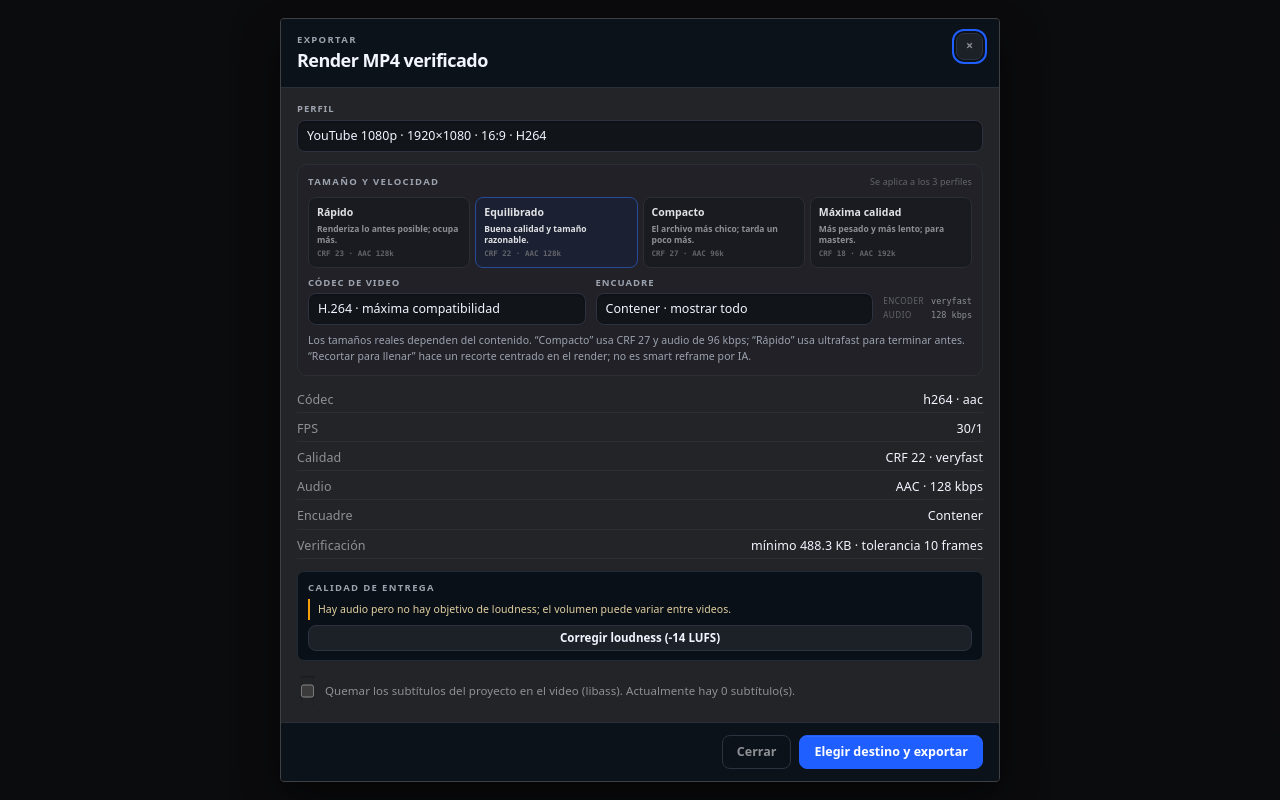
Test: ExportDialog · lote de variantes › apaga la GPU al volver a un preset rápido
Click the button "Máxima calidad" at (891, 232), box [810,196,972,268]
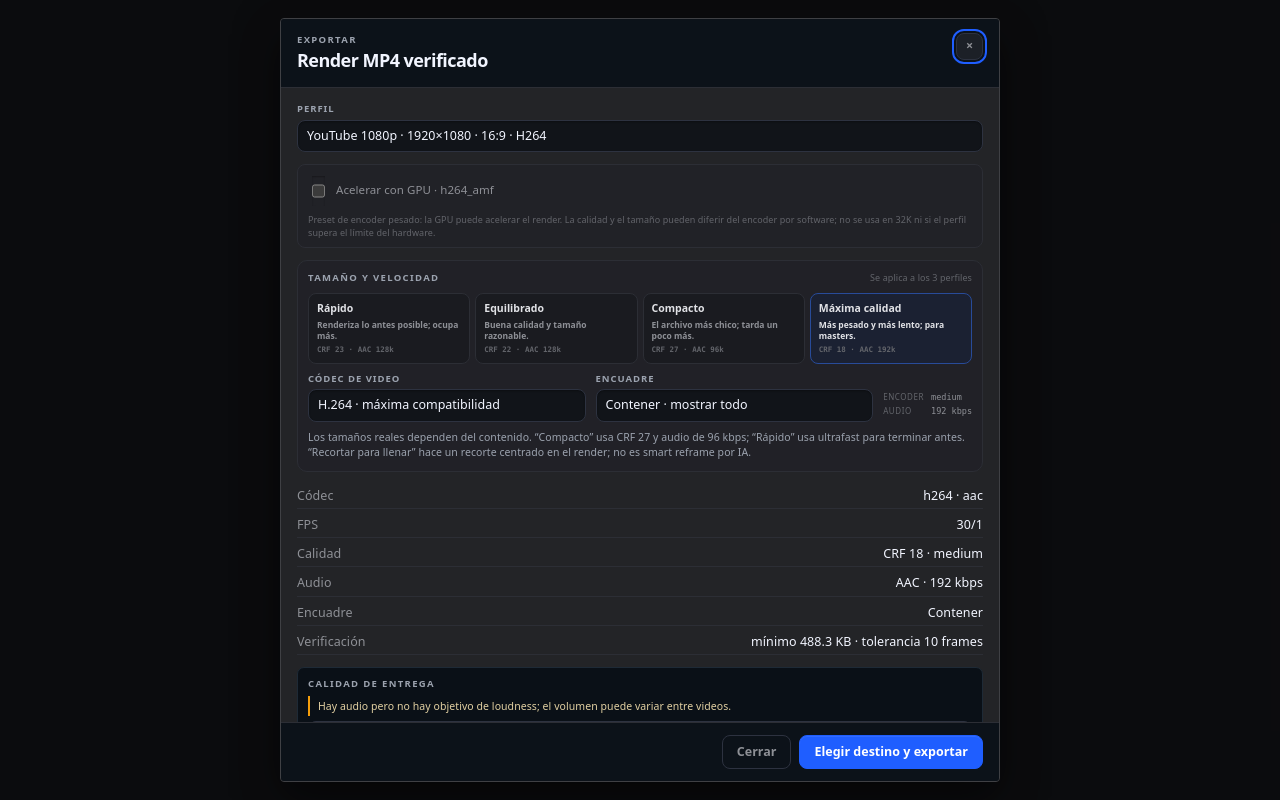
Click the checkbox labelled "Acelerar con GPU · h264_amf" at (318, 191), box [312,176,325,206]
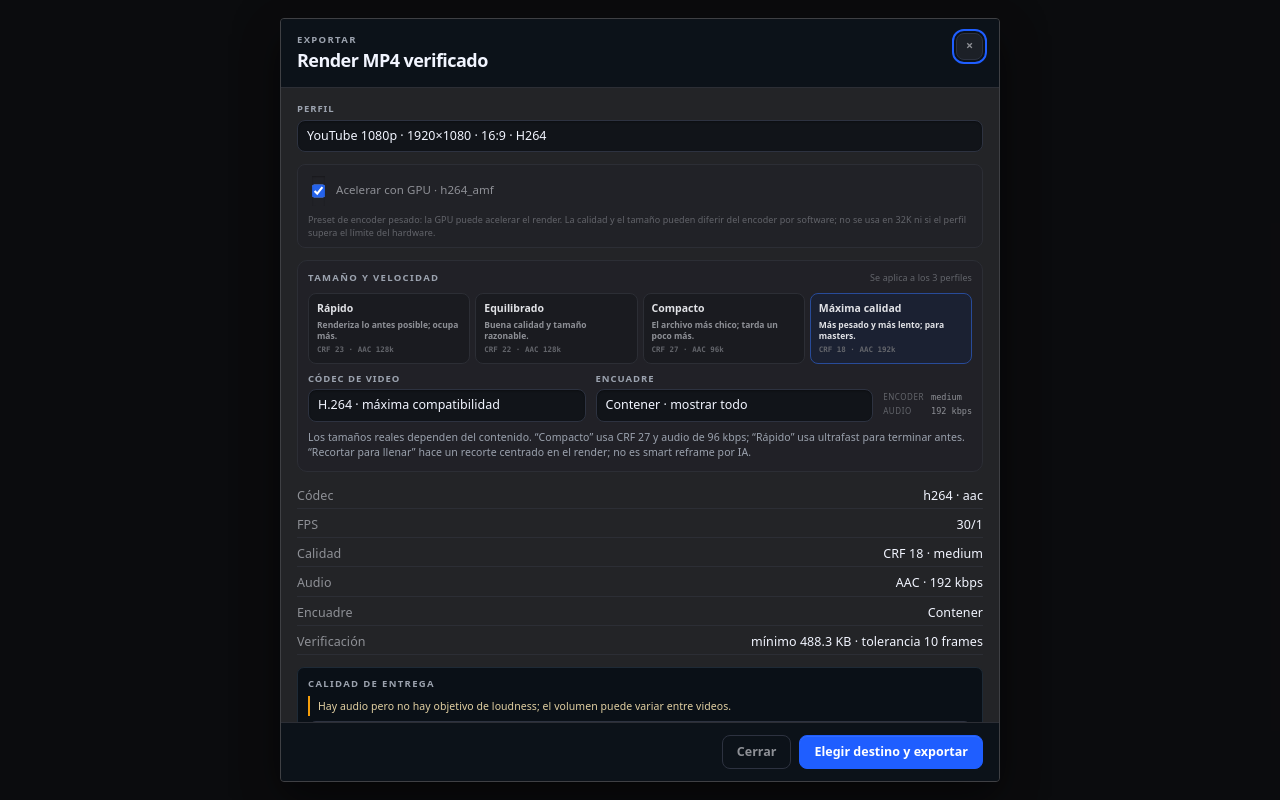
Result: the checkbox labelled "Acelerar con GPU · h264_amf" is checked at [312,176,325,206]
Click the button "Equilibrado" at (556, 328), box [475,293,638,364]
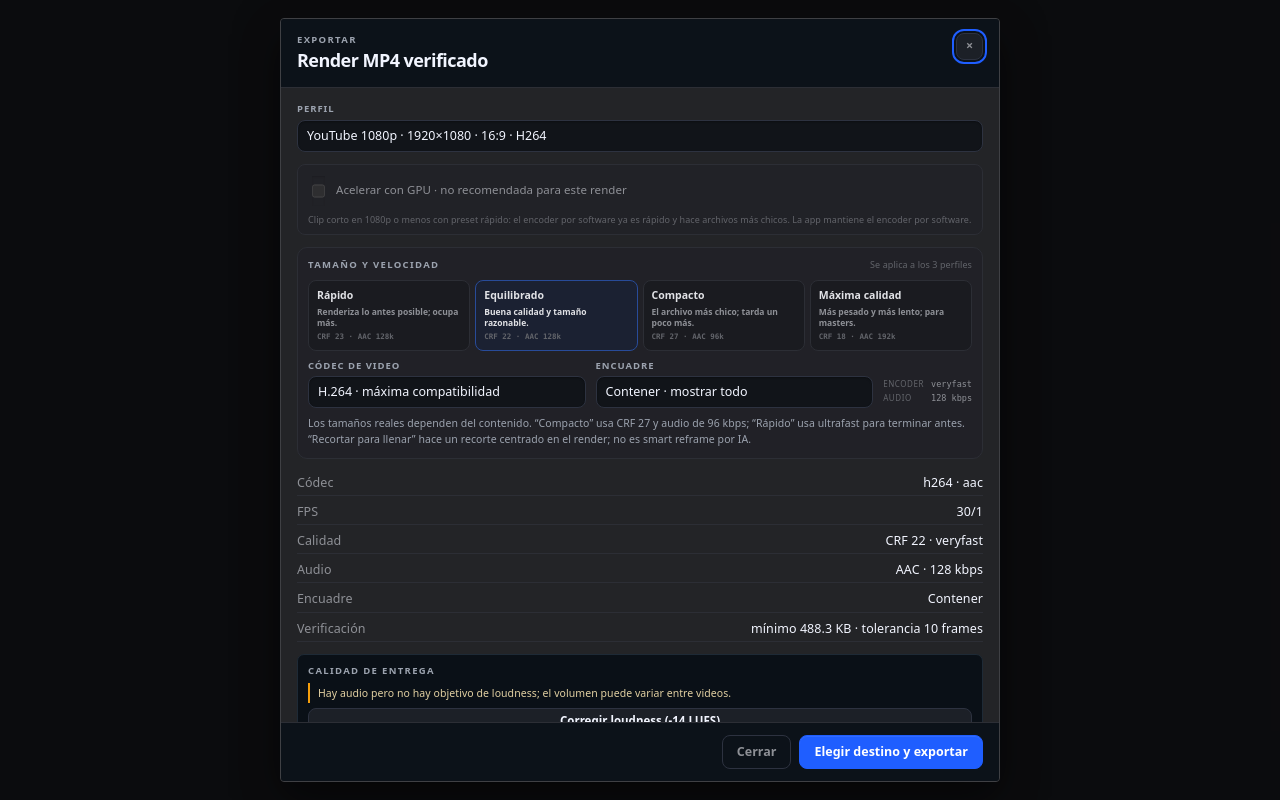
Result: the checkbox labelled "Acelerar con GPU · no recomendada para este render" is not checked at [312,176,325,206]
Result: the checkbox labelled "Acelerar con GPU · no recomendada para este render" is disabled at [312,176,325,206]
